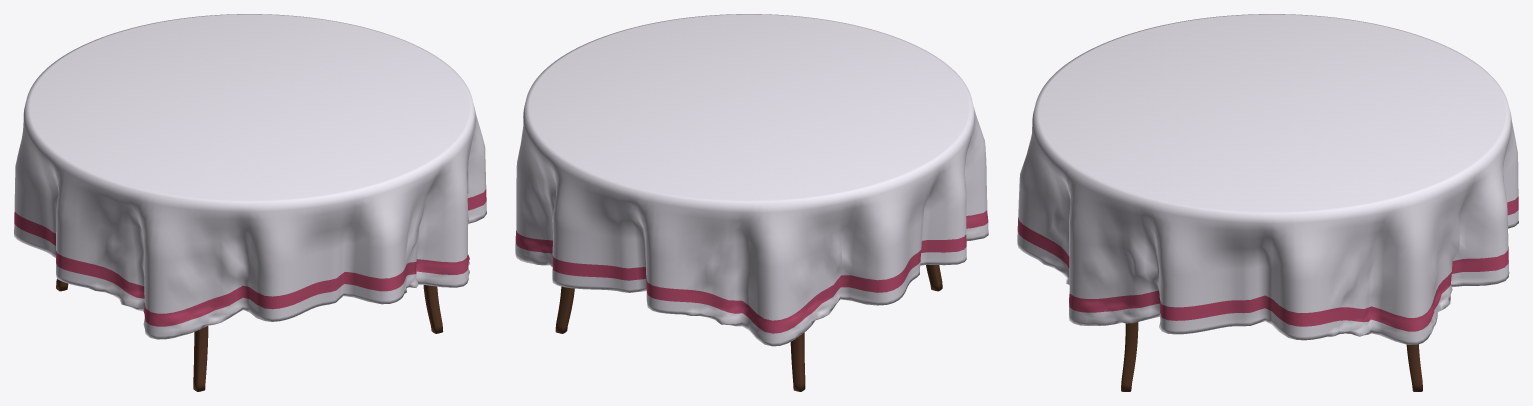
Rendered from DiningTable_FUR01.fbx.
3 renders of one model, left to right at view 1: azimuth 30°, elevation 25°; view 2: azimuth 150°, elevation 25°; view 3: azimuth 270°, elevation 25°, orthographic. The views are drawn at different scales.
Parts seen in each view (by area): view 1: DiningTable; view 2: DiningTable; view 3: DiningTable.
Boxes of the visible parts, <box> form: DiningTable: <box>14,14,486,391</box>; DiningTable: <box>515,14,988,391</box>; DiningTable: <box>1017,14,1518,391</box>.
Size of the model in its own units: 1.52 by 0.72 by 1.52.
3 materials, 3 textured.
